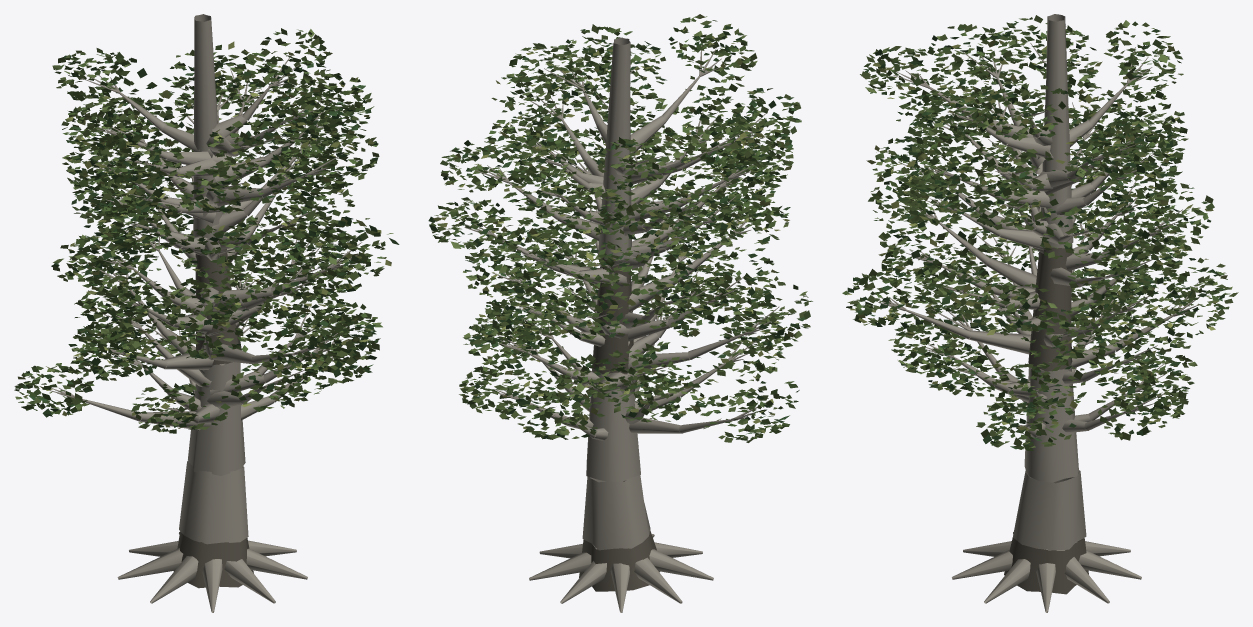
Rendered from SM_VistaBeech_2041.fbx.
The picture shows the model from 3 angles, left to right: view 1: azimuth 30°, elevation 25°; view 2: azimuth 150°, elevation 25°; view 3: azimuth 270°, elevation 25°; orthographic projection. The views are drawn at different scales.
Parts seen in each view (by area): view 1: Soulwood_beech_geometry; view 2: Soulwood_beech_geometry; view 3: Soulwood_beech_geometry.
Boxes of the visible parts, x1,y1,x2,y2 form: Soulwood_beech_geometry: (14,14,399,612); Soulwood_beech_geometry: (428,14,812,612); Soulwood_beech_geometry: (842,14,1238,612).
Bounding box in the file's own units: 697 × 701 × 1087.
